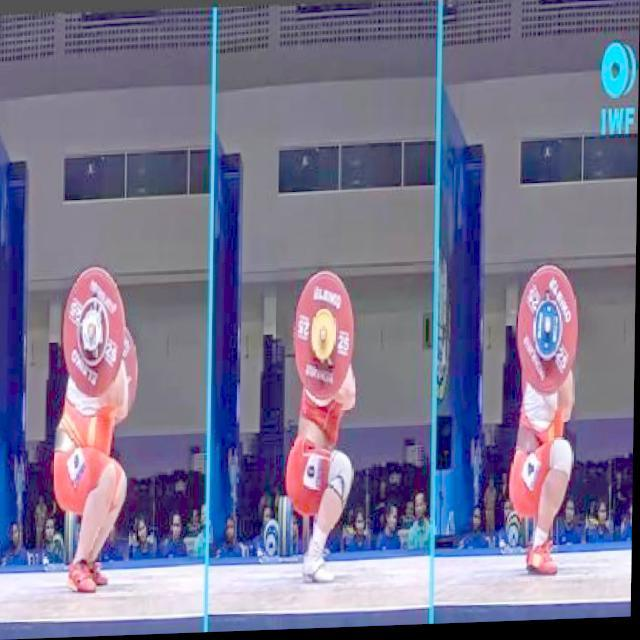barbell: (513, 262, 585, 401), (59, 264, 132, 400), (291, 271, 358, 407)
